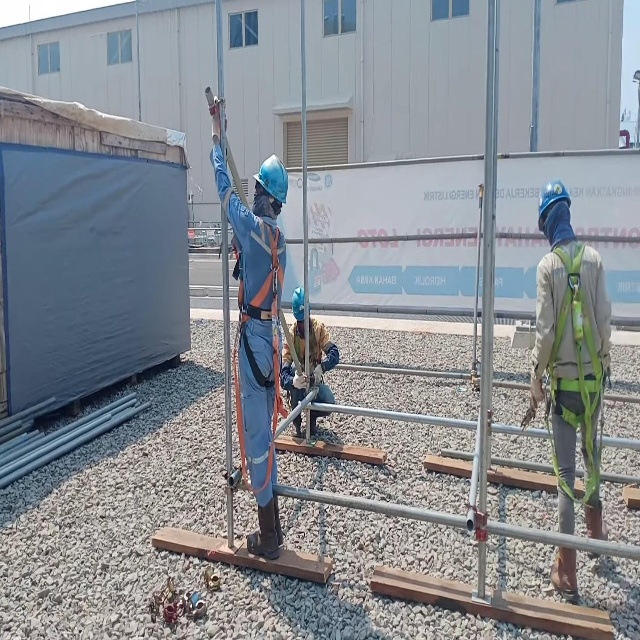Arnes_seguridad: (542, 240, 611, 505), (233, 218, 289, 493)
